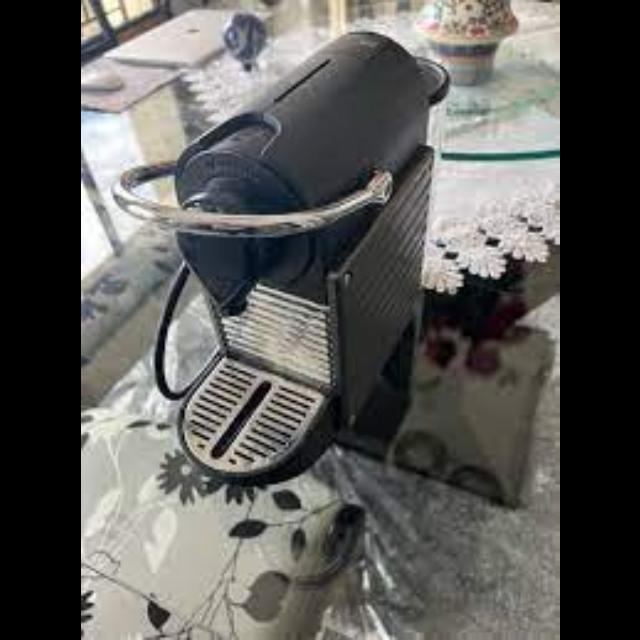Coffee-Machine: (108, 27, 446, 490)
